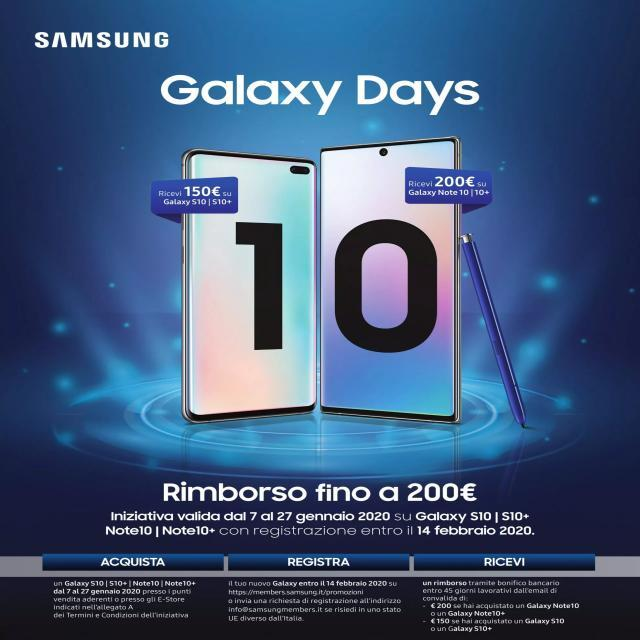phone: (320, 134, 463, 423), (187, 152, 321, 420)
